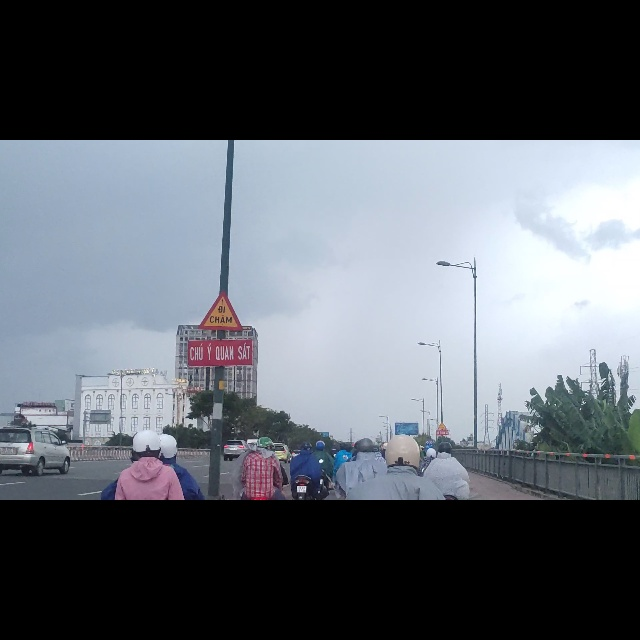bien_chi_dan: (198, 267, 243, 340)
